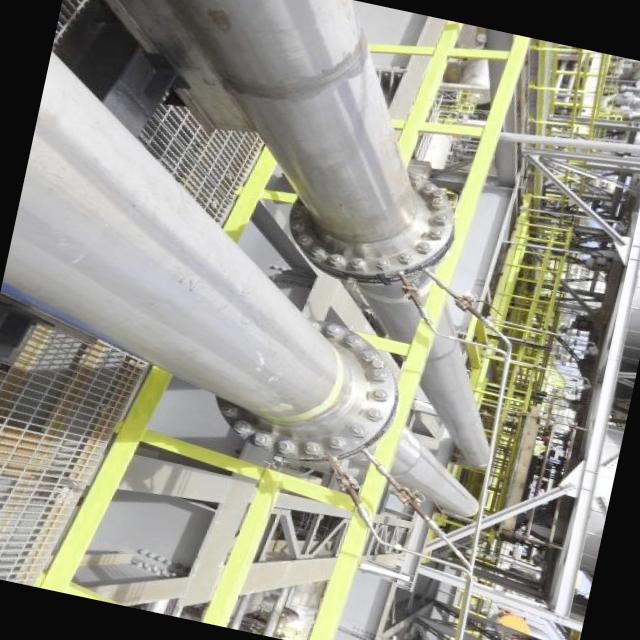gas: (1, 52, 479, 518), (174, 0, 491, 459)
